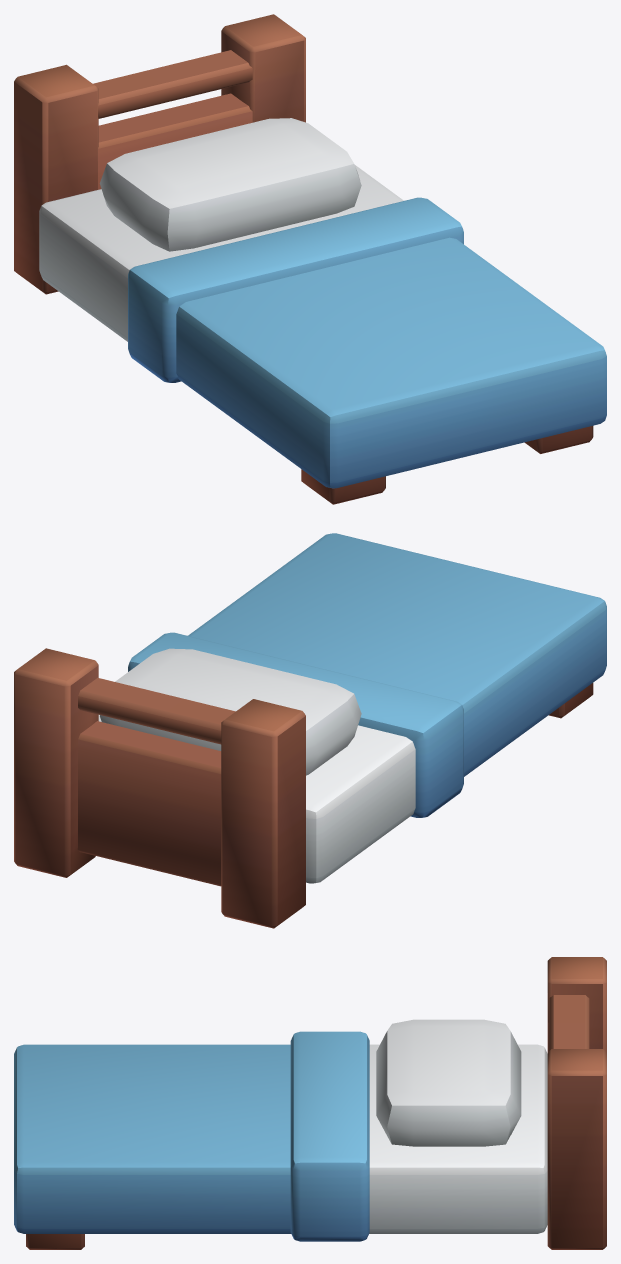
The model's file is bed_single_A.glb.
3 views of the same model, one above another, from view 1: azimuth 30°, elevation 25°; view 2: azimuth 150°, elevation 25°; view 3: azimuth 270°, elevation 25° (orthographic). The views are drawn at different scales.
Parts seen in each view (by area): view 1: bed_single_A; view 2: bed_single_A; view 3: bed_single_A.
Part boxes in pixels (left/top/right/bottom): bed_single_A: left=14, top=14, right=606, bottom=504; bed_single_A: left=14, top=533, right=606, bottom=928; bed_single_A: left=14, top=957, right=606, bottom=1249.
Size of the model in its own units: 1.6 by 0.9999 by 3.
Materials: 1 (1 with a texture image).
